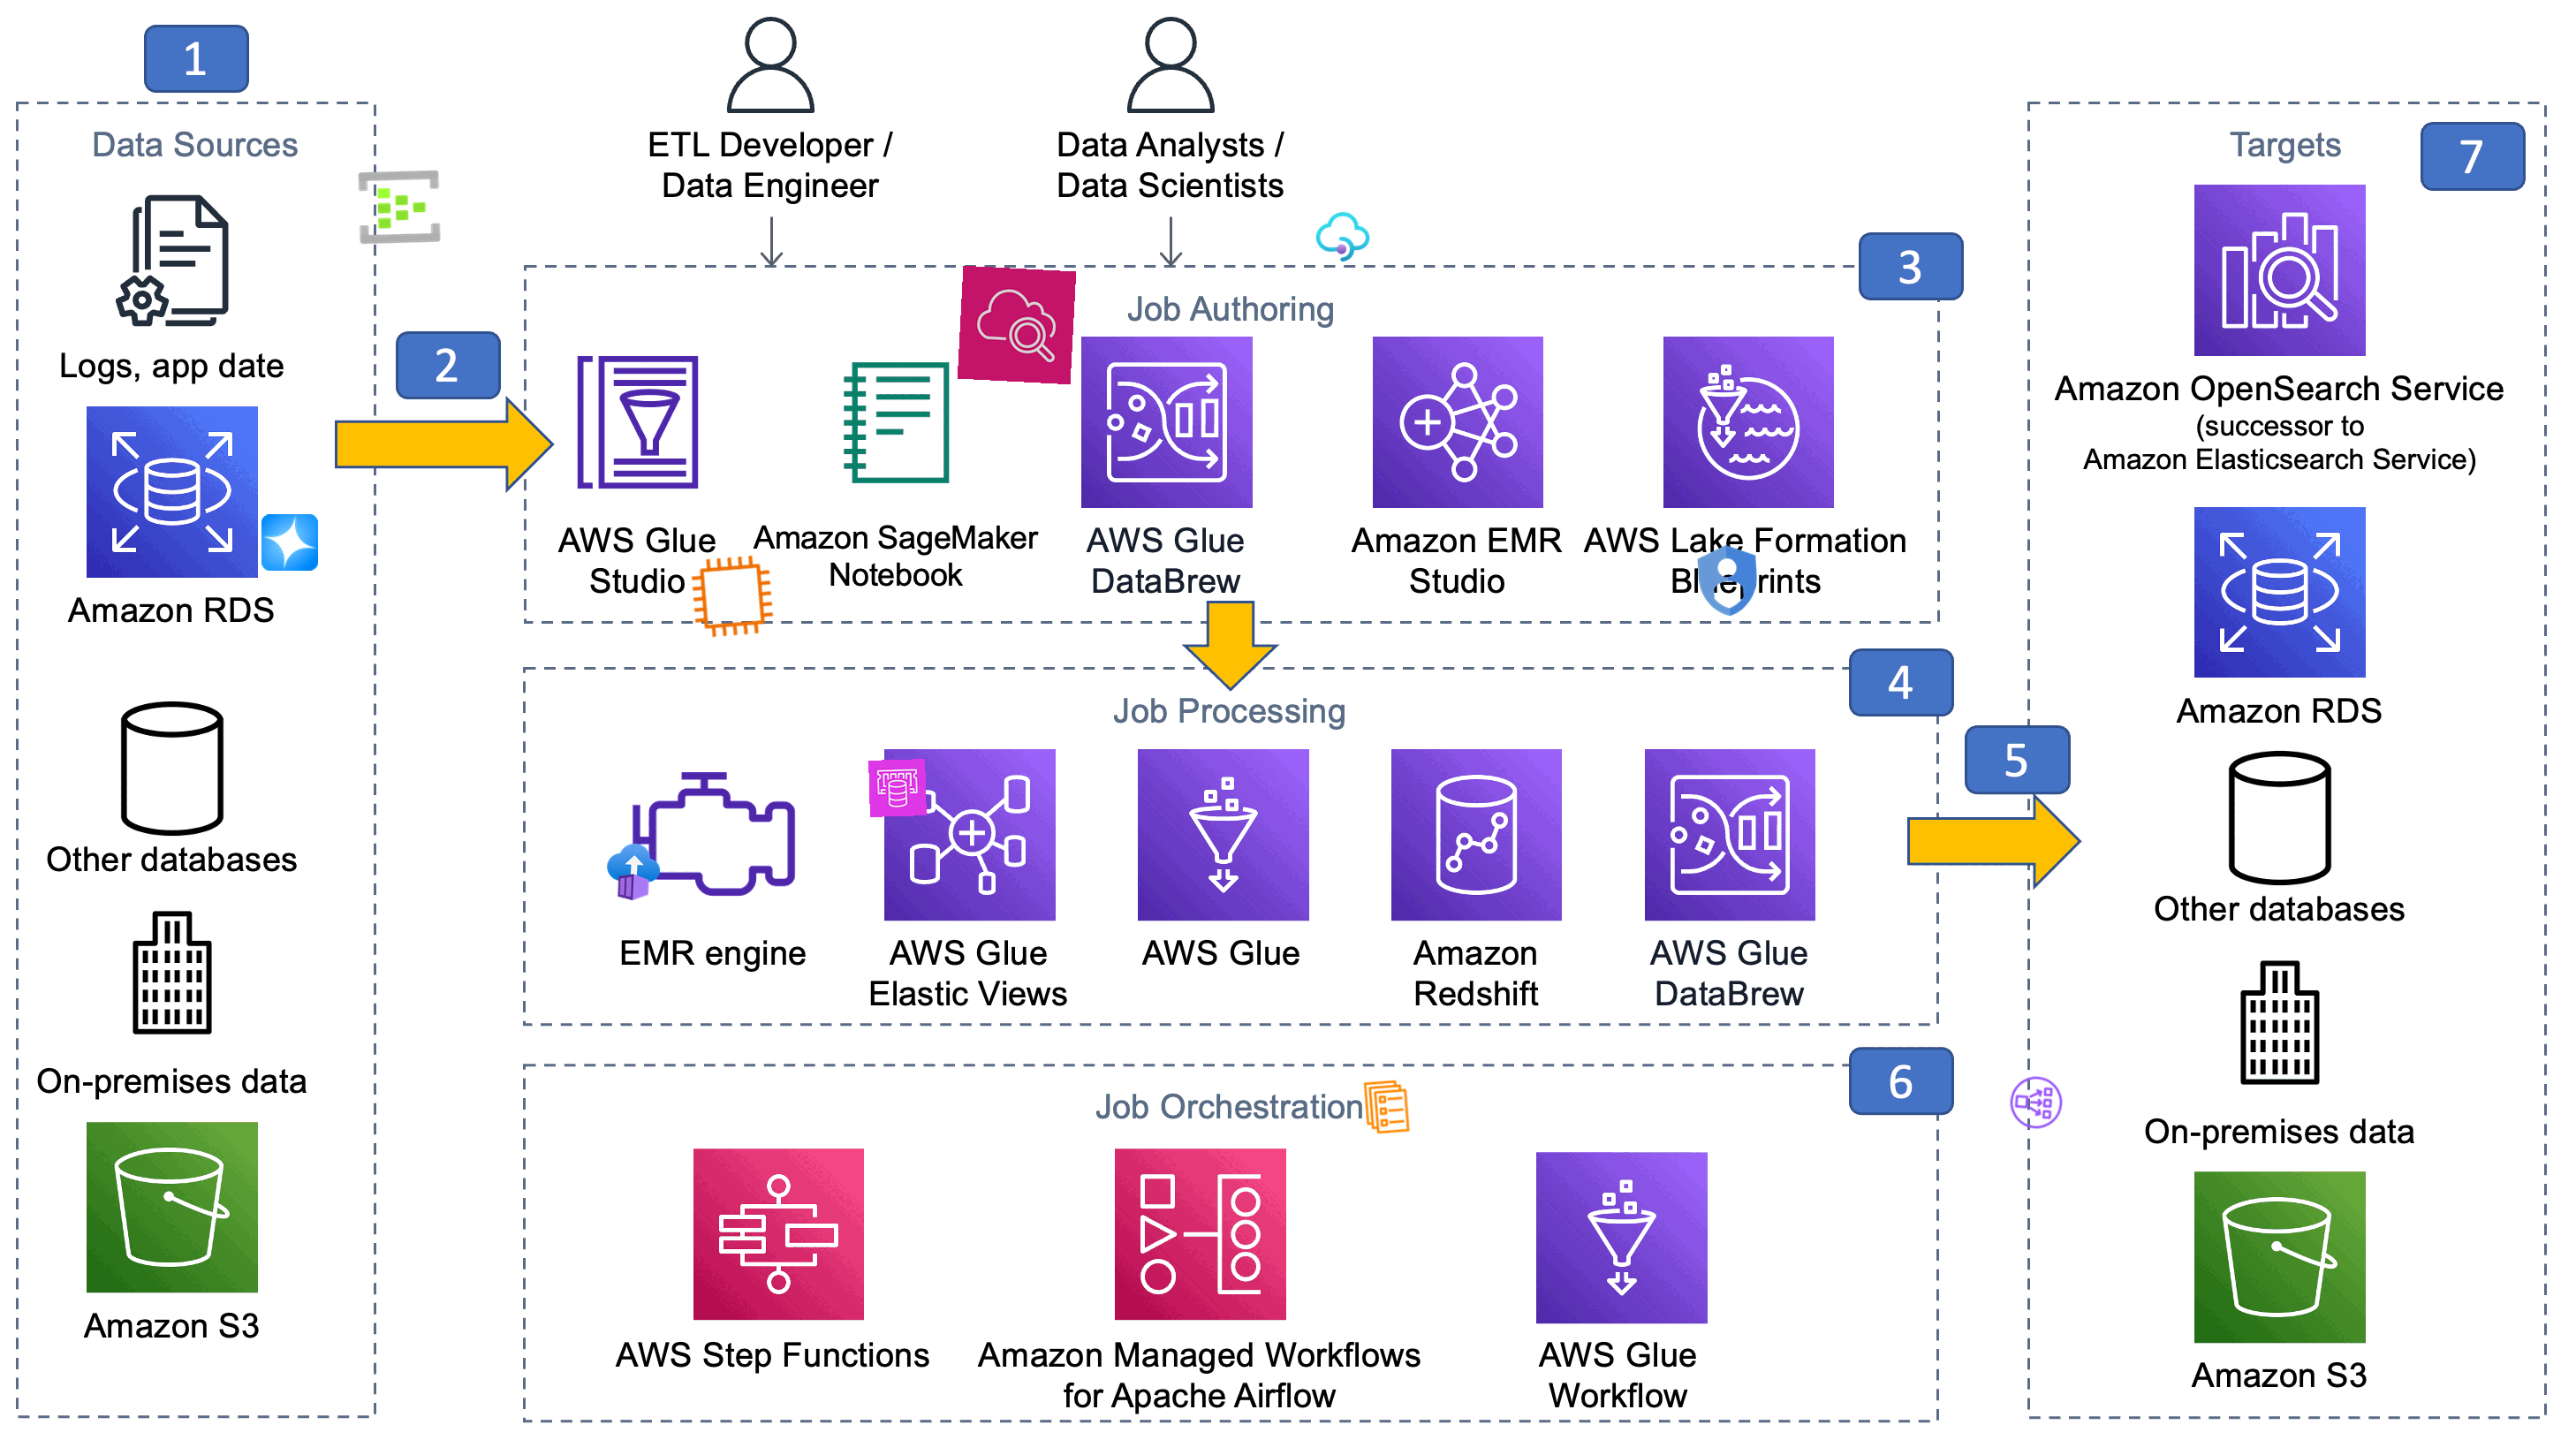aws_amazon_cloudwatch: (957, 265, 1077, 386)
aws_amazon_elasticache: (869, 759, 927, 817)
aws_ec2_instance: (686, 550, 778, 642)
aws_elastic_container_service_service: (1355, 1076, 1417, 1137)
aws_elastic_load_balancing_network_load_balancer: (2006, 1072, 2066, 1132)
azure_api_management_services: (1313, 207, 1373, 267)
azure_container_instances: (603, 842, 663, 902)
azure_event_hubs: (356, 163, 444, 251)
azure_openai: (260, 513, 318, 571)
gcp_identity_and_access_management: (1683, 536, 1773, 626)
